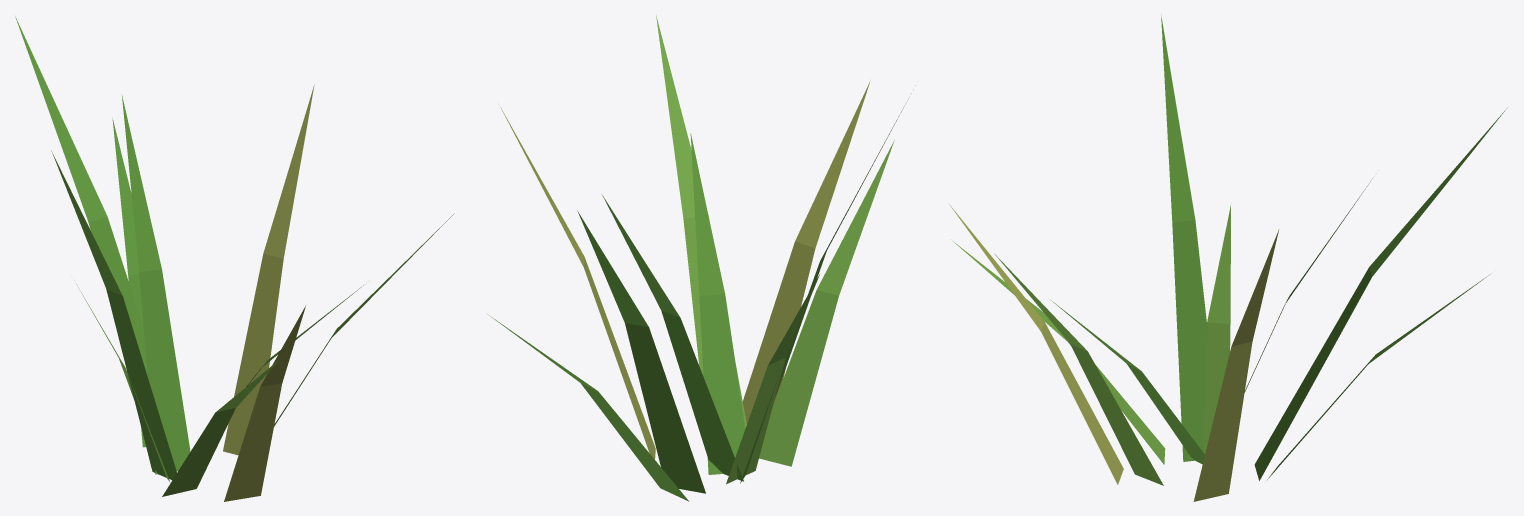
The model's file is Trail_GrassTuft_Short.obj.
3 views of the same model, side by side, from view 1: azimuth 30°, elevation 25°; view 2: azimuth 150°, elevation 25°; view 3: azimuth 270°, elevation 25° (orthographic). The views are drawn at different scales.
Parts seen in each view (by area): view 1: Trail_GrassTuft_Short; view 2: Trail_GrassTuft_Short; view 3: Trail_GrassTuft_Short.
Part boxes in pixels (x1=…): Trail_GrassTuft_Short: x1=15, y1=16, x2=454, y2=501; Trail_GrassTuft_Short: x1=487, y1=15, x2=915, y2=501; Trail_GrassTuft_Short: x1=949, y1=14, x2=1506, y2=501.
Size of the model in its own units: 0.2248 by 0.2506 by 0.337.
